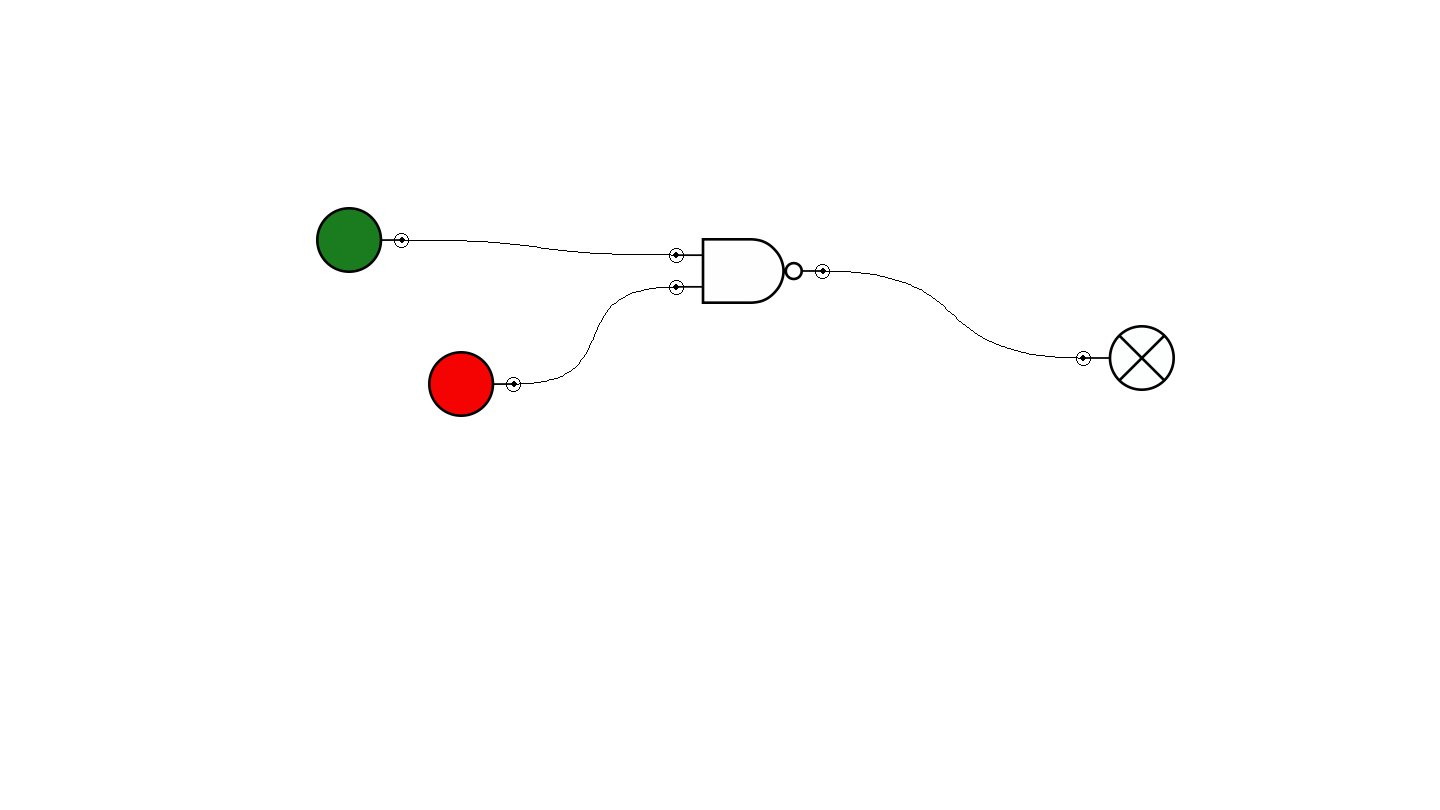bulb: (1076, 325, 1175, 391)
nand: (669, 238, 830, 304)
switch_False: (428, 351, 521, 417)
switch_True: (316, 207, 409, 273)
